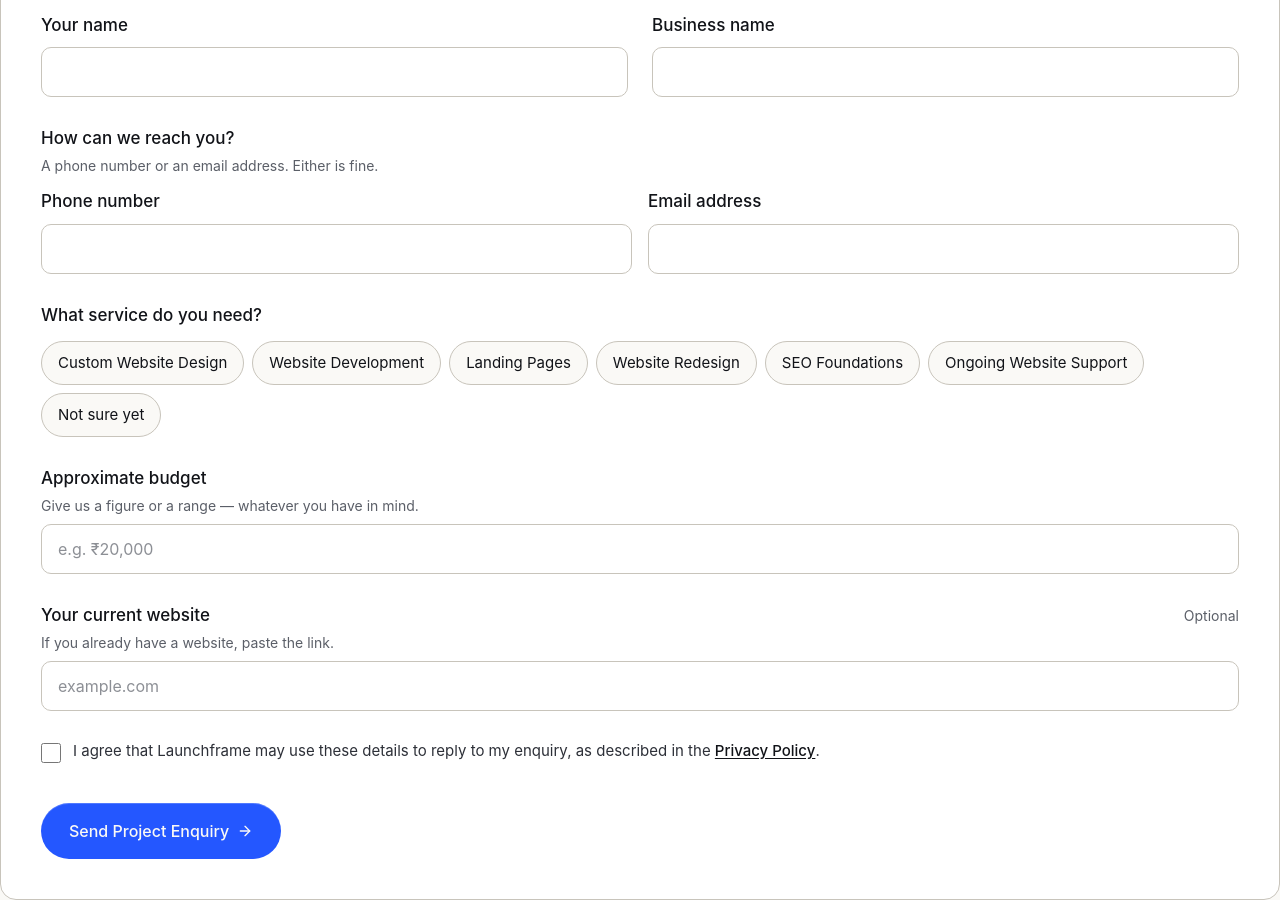
Test case: EnquiryForm › summarises errors, including the phone-or-email rule, when submitted empty
(page scrolled)
Click the button "Send Project Enquiry": click(161, 831) [41,803,281,859]
(page scrolled)
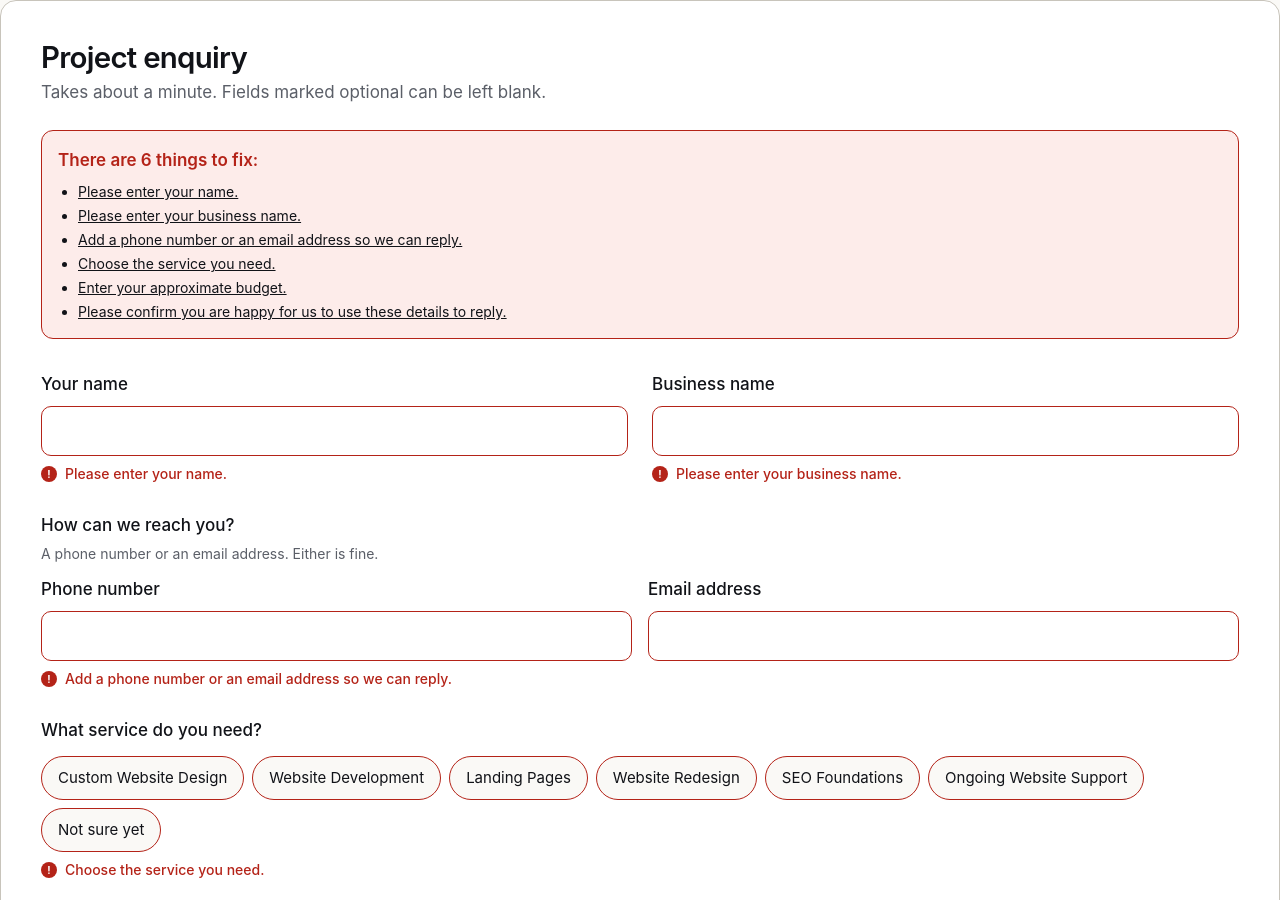
Expected: the message shows "things to fix", [58,150,258,170]
Expected: the message shows "phone number or an email", [78,231,462,248]
